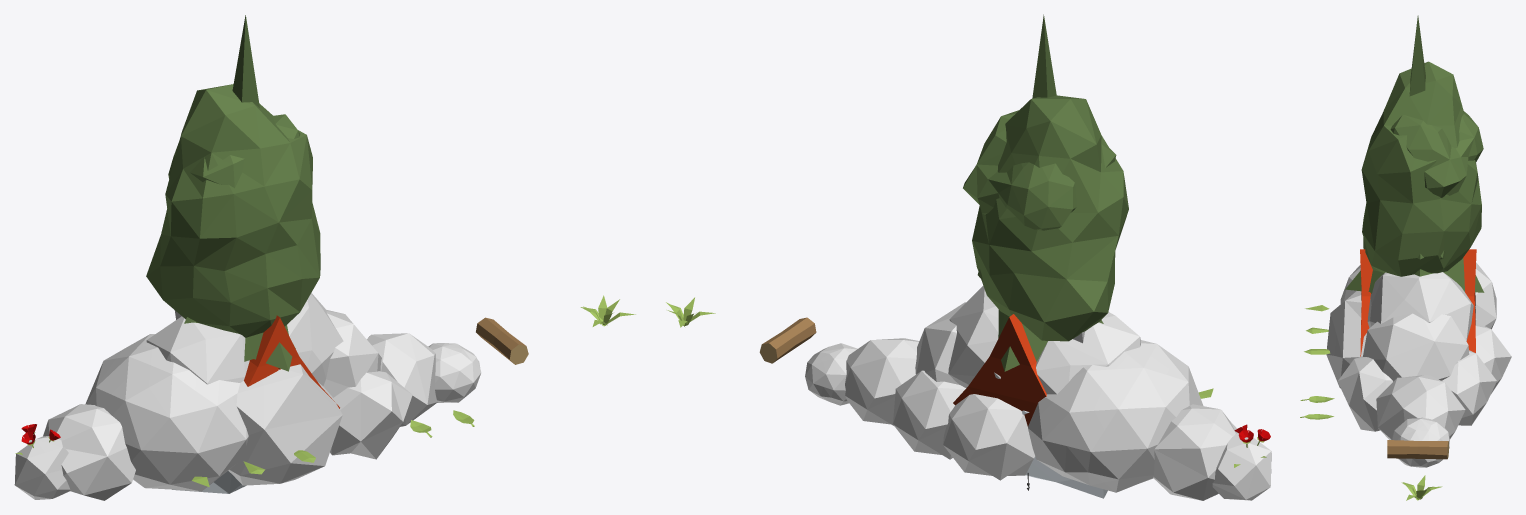
The model's file is leaf04.fbx.
The picture shows the model from 3 angles, left to right: view 1: azimuth 30°, elevation 25°; view 2: azimuth 150°, elevation 25°; view 3: azimuth 270°, elevation 25°; orthographic projection. The views are drawn at different scales.
Parts seen in each view (by area): view 1: cloud_03, tree_03, tent_02, tree_02, tree_09, log_03, tree_04; view 2: cloud_03, tree_03, tree_02, tent_02, log_03, tree_09, cloud_01, tree_04; view 3: cloud_03, tree_03, tree_02, tent_02, log_03, tree_04, tree_09, grass_05.
Part boxes in pixels (bbox=[...]): cloud_03: bbox=[14, 293, 481, 500]; tree_03: bbox=[146, 84, 320, 337]; tent_02: bbox=[244, 315, 339, 408]; tree_02: bbox=[168, 114, 300, 188]; tree_09: bbox=[232, 15, 259, 107]; log_03: bbox=[476, 317, 528, 364]; tree_04: bbox=[184, 317, 295, 371]; cloud_03: bbox=[805, 286, 1271, 500]; tree_03: bbox=[972, 95, 1128, 341]; tree_02: bbox=[963, 110, 1116, 230]; tent_02: bbox=[953, 314, 1046, 426]; log_03: bbox=[759, 317, 816, 363]; tree_09: bbox=[1032, 14, 1056, 98]; cloud_01: bbox=[1022, 410, 1107, 498]; tree_04: bbox=[998, 309, 1103, 371]; cloud_03: bbox=[1326, 262, 1511, 467]; tree_03: bbox=[1361, 61, 1481, 276]; tree_02: bbox=[1390, 111, 1483, 197]; tent_02: bbox=[1360, 249, 1476, 356]; log_03: bbox=[1387, 440, 1448, 459]; tree_04: bbox=[1345, 253, 1484, 293]; tree_09: bbox=[1409, 15, 1425, 96]; grass_05: bbox=[1401, 475, 1442, 500].
Size of the model in its own units: 1194 by 868 by 423.
